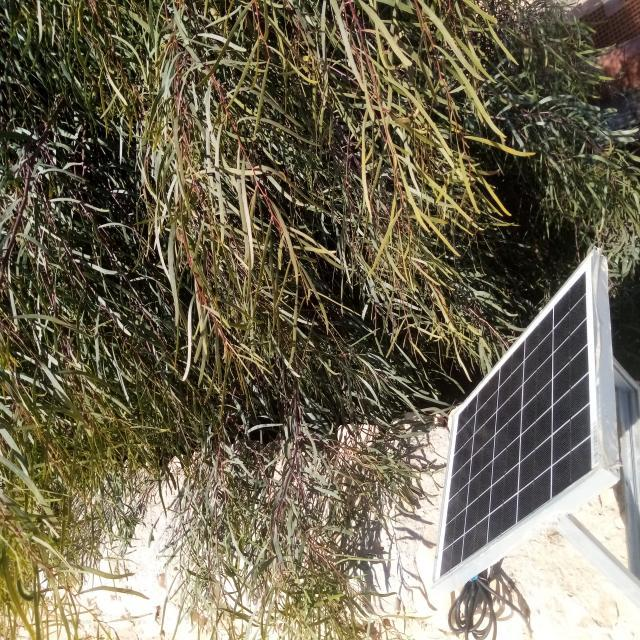no faulty: (432, 252, 602, 590)
